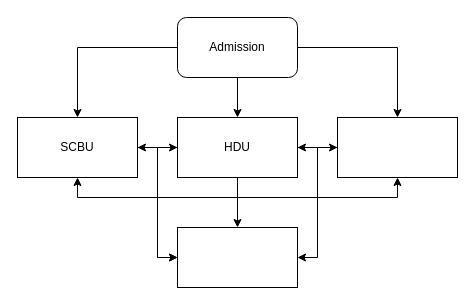
The diagram is 475 pixels wide and 305 high, and some of its shapes have lost their labels. The centre of each missing label's shape, as x and y in pixels:
"Exit" goes at [237,257].
"NICU" goes at [397,147].
